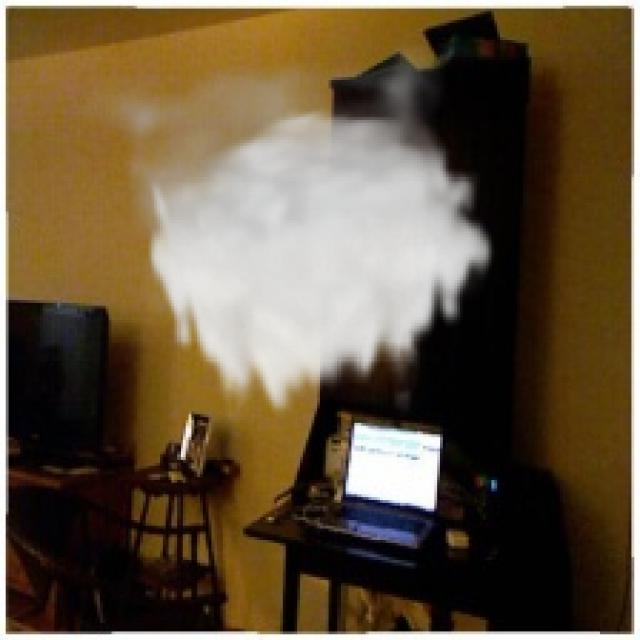smoke: (72, 34, 497, 423)
